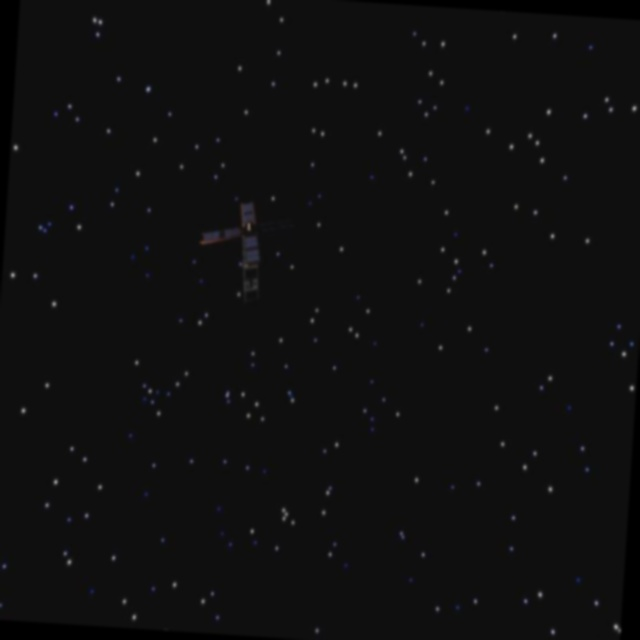medium_debris: (194, 193, 286, 298)
